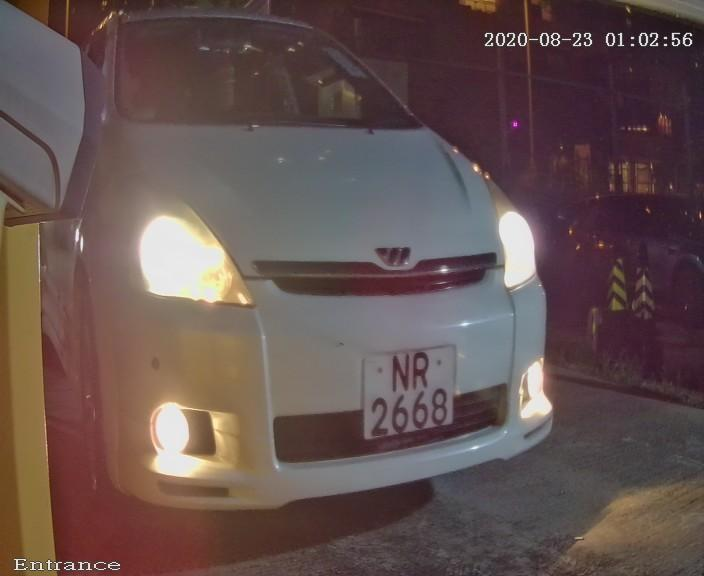License Plate: (353, 335, 463, 453)
